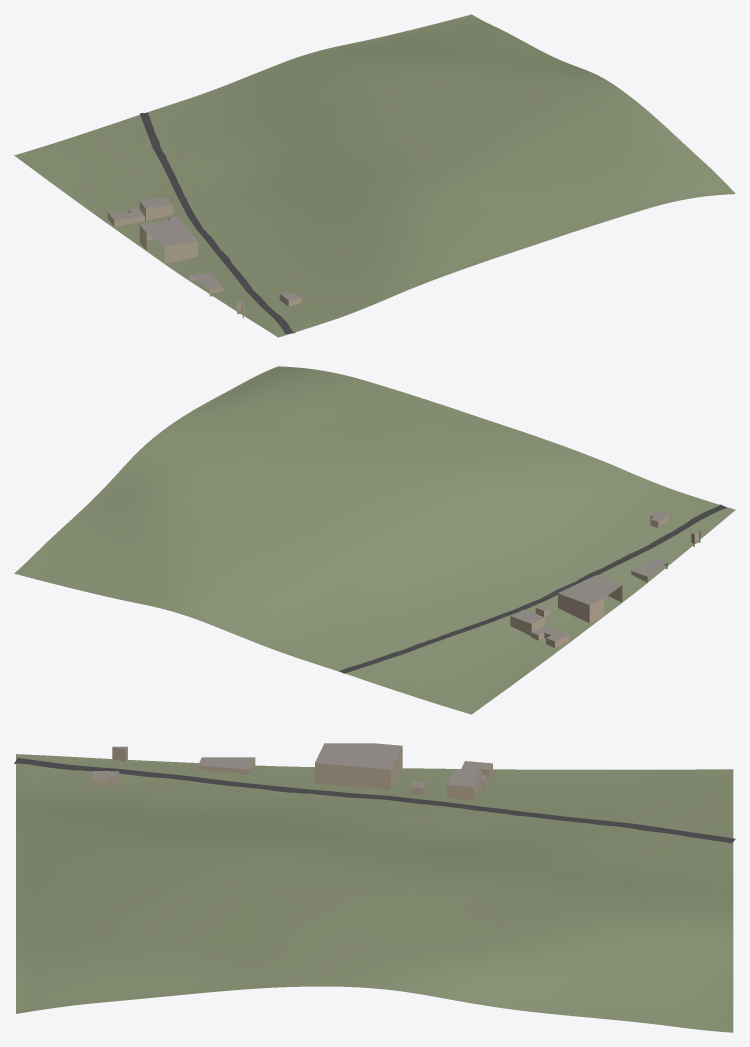
The picture shows the model from 3 angles, top to bottom: view 1: azimuth 30°, elevation 25°; view 2: azimuth 150°, elevation 25°; view 3: azimuth 270°, elevation 25°; orthographic projection. The views are drawn at different scales.
Visible parts, largest first — view 1: ground, roofs, road, walls; view 2: ground, walls, roofs, road; view 3: ground, road, roofs, walls.
Part boxes in pixels (box(x1,y1,x2,y2)): ground: box(14, 14, 735, 337); roofs: box(108, 196, 300, 305); road: box(139, 112, 295, 333); walls: box(107, 201, 301, 318); ground: box(14, 366, 735, 714); walls: box(510, 514, 700, 647); roofs: box(511, 511, 699, 641); road: box(339, 504, 726, 673); ground: box(16, 754, 733, 1032); road: box(14, 758, 735, 843); roofs: box(92, 743, 492, 788); walls: box(92, 746, 492, 800).
Bounding box in the file's own units: 250 × 33.23 × 252.
